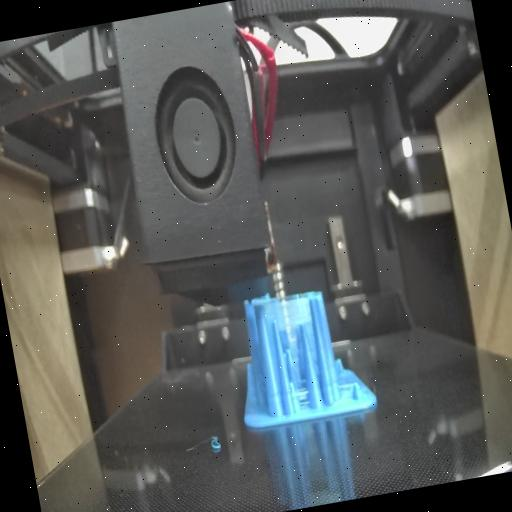stringing: (258, 290, 312, 334), (292, 383, 312, 412), (336, 376, 356, 396)
